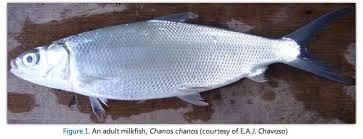Bangus: (13, 7, 361, 120)
